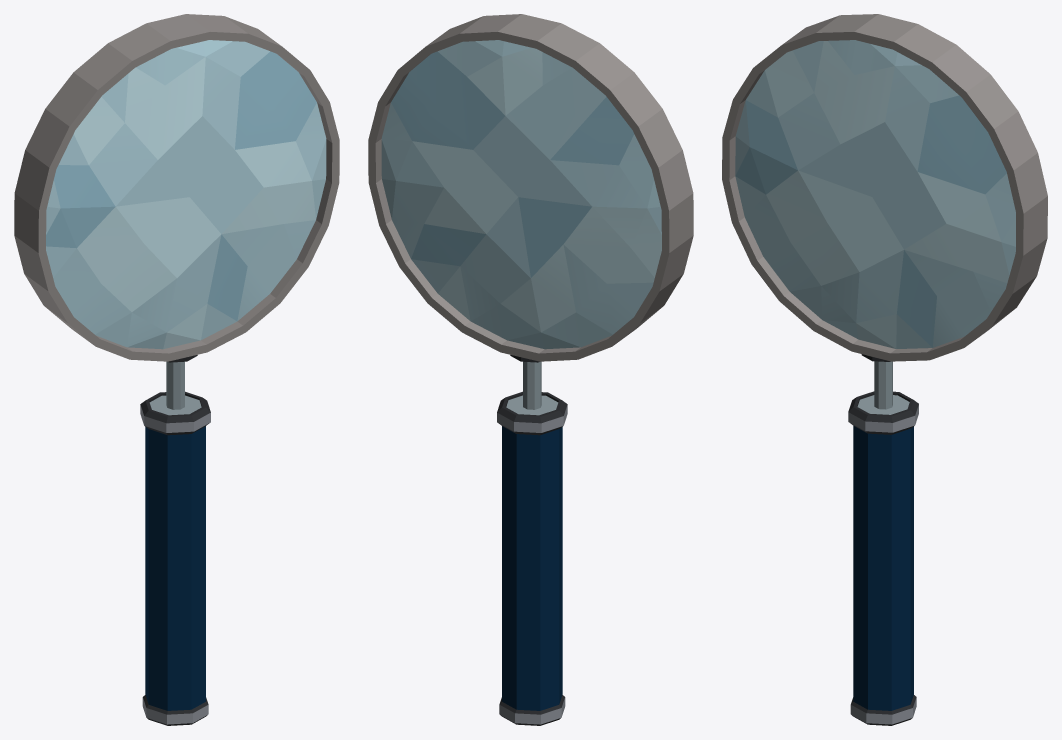
Rendered from SM_Magnifying_Glass.glb.
3 renders of one model, left to right at view 1: azimuth 30°, elevation 25°; view 2: azimuth 150°, elevation 25°; view 3: azimuth 330°, elevation 25°, orthographic.
Visible parts, largest first — view 1: SM_Magnifying_Glass; view 2: SM_Magnifying_Glass; view 3: SM_Magnifying_Glass.
Boxes of the visible parts, x1,y1,x2,y2 form: SM_Magnifying_Glass: (14, 14, 339, 725); SM_Magnifying_Glass: (368, 14, 693, 725); SM_Magnifying_Glass: (722, 14, 1047, 725).
Bounding box in the file's own units: 0.0753 × 0.1636 × 0.016.
1 material, 1 textured.
